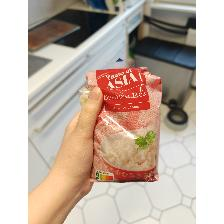Reis: (78, 68, 160, 184)
